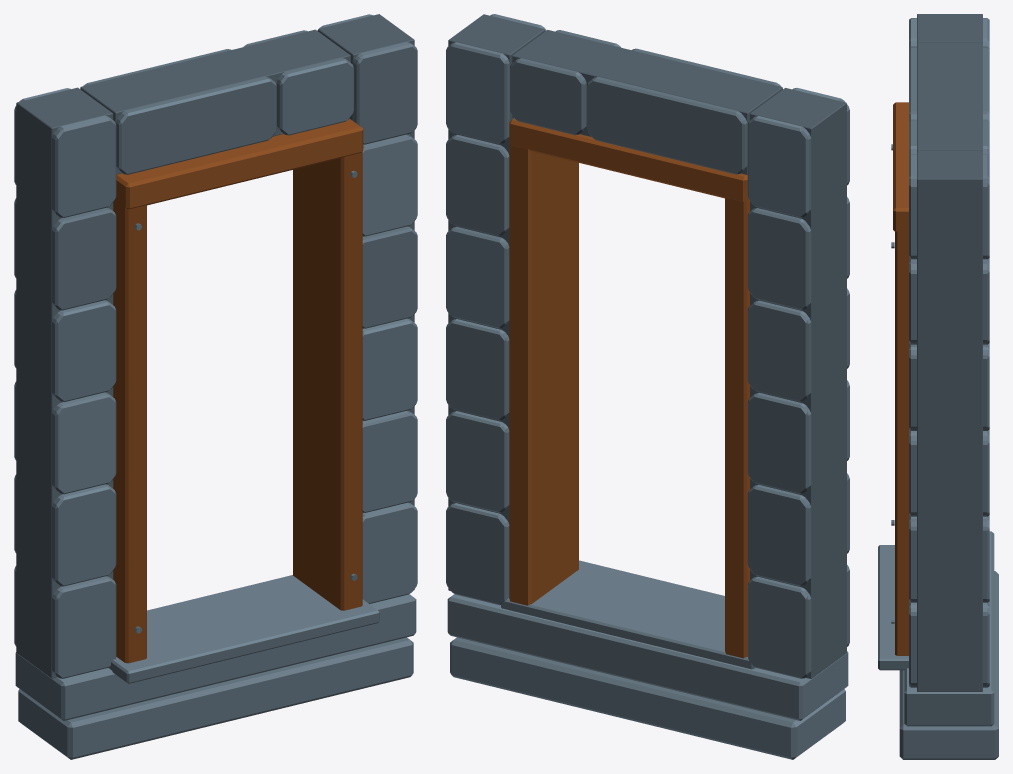
Rendered from QH_Wall_Door_2m.fbx.
3 renders of one model, left to right at view 1: azimuth 30°, elevation 25°; view 2: azimuth 150°, elevation 25°; view 3: azimuth 270°, elevation 25°, orthographic. The views are drawn at different scales.
Visible parts, largest first — view 1: QH_Wall_Door_2m; view 2: QH_Wall_Door_2m; view 3: QH_Wall_Door_2m.
Boxes of the visible parts, x1,y1,x2,y2 form: QH_Wall_Door_2m: (14,14,417,759); QH_Wall_Door_2m: (446,14,849,759); QH_Wall_Door_2m: (878,14,998,759).
Size of the model in its own units: 1.65 by 2.73 by 0.511.
